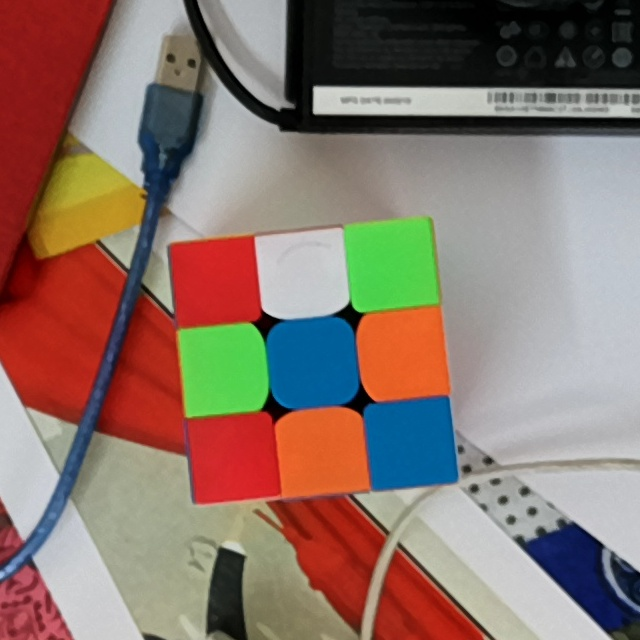tile: (357, 226, 430, 301), (176, 246, 251, 318), (194, 421, 270, 492), (366, 318, 440, 390), (187, 331, 259, 404), (263, 238, 341, 305), (285, 418, 360, 487), (373, 407, 448, 476), (276, 329, 350, 397)
